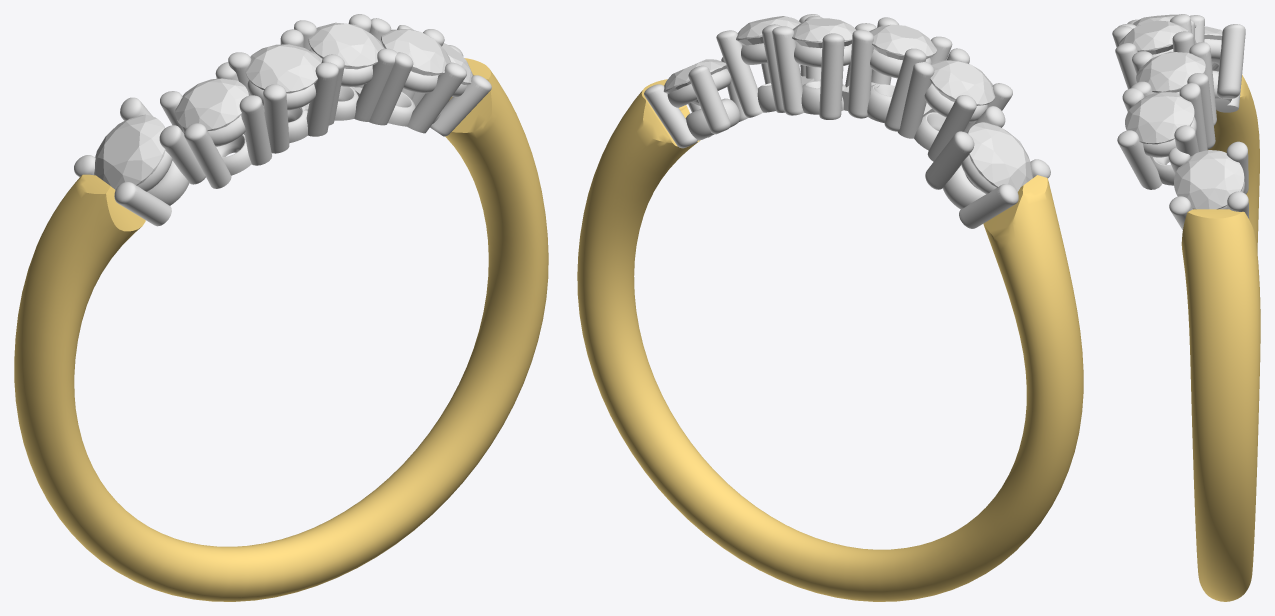
Rendered from Zach6stoneYGPT_blender.glb.
3 renders of one model, left to right at view 1: azimuth 30°, elevation 25°; view 2: azimuth 150°, elevation 25°; view 3: azimuth 270°, elevation 25°, orthographic. The views are drawn at different scales.
Parts seen in each view (by area): view 1: Zach YG for 3d model, Zach PT for 3d model, Zach dia for 3d model.002, Zach dia for 3d model.001, Zach dia for 3d model.003, Zach dia for 3d model.004, Zach dia for 3d model.005; view 2: Zach YG for 3d model, Zach PT for 3d model, Zach dia for 3d model.002, Zach dia for 3d model.001, Zach dia for 3d model.003, Zach dia for 3d model.004, Zach dia for 3d model.005, Zach dia for 3d model; view 3: Zach YG for 3d model, Zach PT for 3d model, Zach dia for 3d model, Zach dia for 3d model.005, Zach dia for 3d model.004, Zach dia for 3d model.003, Zach dia for 3d model.002, Zach dia for 3d model.001.
Part boxes in pixels (x1,y1,x2,y2): Zach YG for 3d model: [14, 58, 548, 601]; Zach PT for 3d model: [74, 14, 491, 226]; Zach dia for 3d model.002: [94, 114, 165, 190]; Zach dia for 3d model.001: [175, 78, 248, 131]; Zach dia for 3d model.003: [245, 44, 320, 93]; Zach dia for 3d model.004: [308, 22, 383, 69]; Zach dia for 3d model.005: [381, 29, 451, 75]; Zach YG for 3d model: [577, 79, 1083, 601]; Zach PT for 3d model: [644, 14, 1050, 228]; Zach dia for 3d model.002: [967, 122, 1032, 191]; Zach dia for 3d model.001: [930, 60, 995, 105]; Zach dia for 3d model.003: [869, 24, 936, 60]; Zach dia for 3d model.004: [792, 18, 856, 48]; Zach dia for 3d model.005: [736, 16, 800, 45]; Zach dia for 3d model: [663, 59, 726, 105]; Zach YG for 3d model: [1181, 74, 1260, 601]; Zach PT for 3d model: [1112, 14, 1249, 230]; Zach dia for 3d model: [1174, 150, 1244, 209]; Zach dia for 3d model.005: [1125, 91, 1194, 144]; Zach dia for 3d model.004: [1136, 51, 1205, 92]; Zach dia for 3d model.003: [1119, 20, 1188, 54]; Zach dia for 3d model.002: [1204, 26, 1222, 70]; Zach dia for 3d model.001: [1133, 14, 1196, 27].
Bounding box in the file's own units: 19.69 × 20.9 × 5.22.
